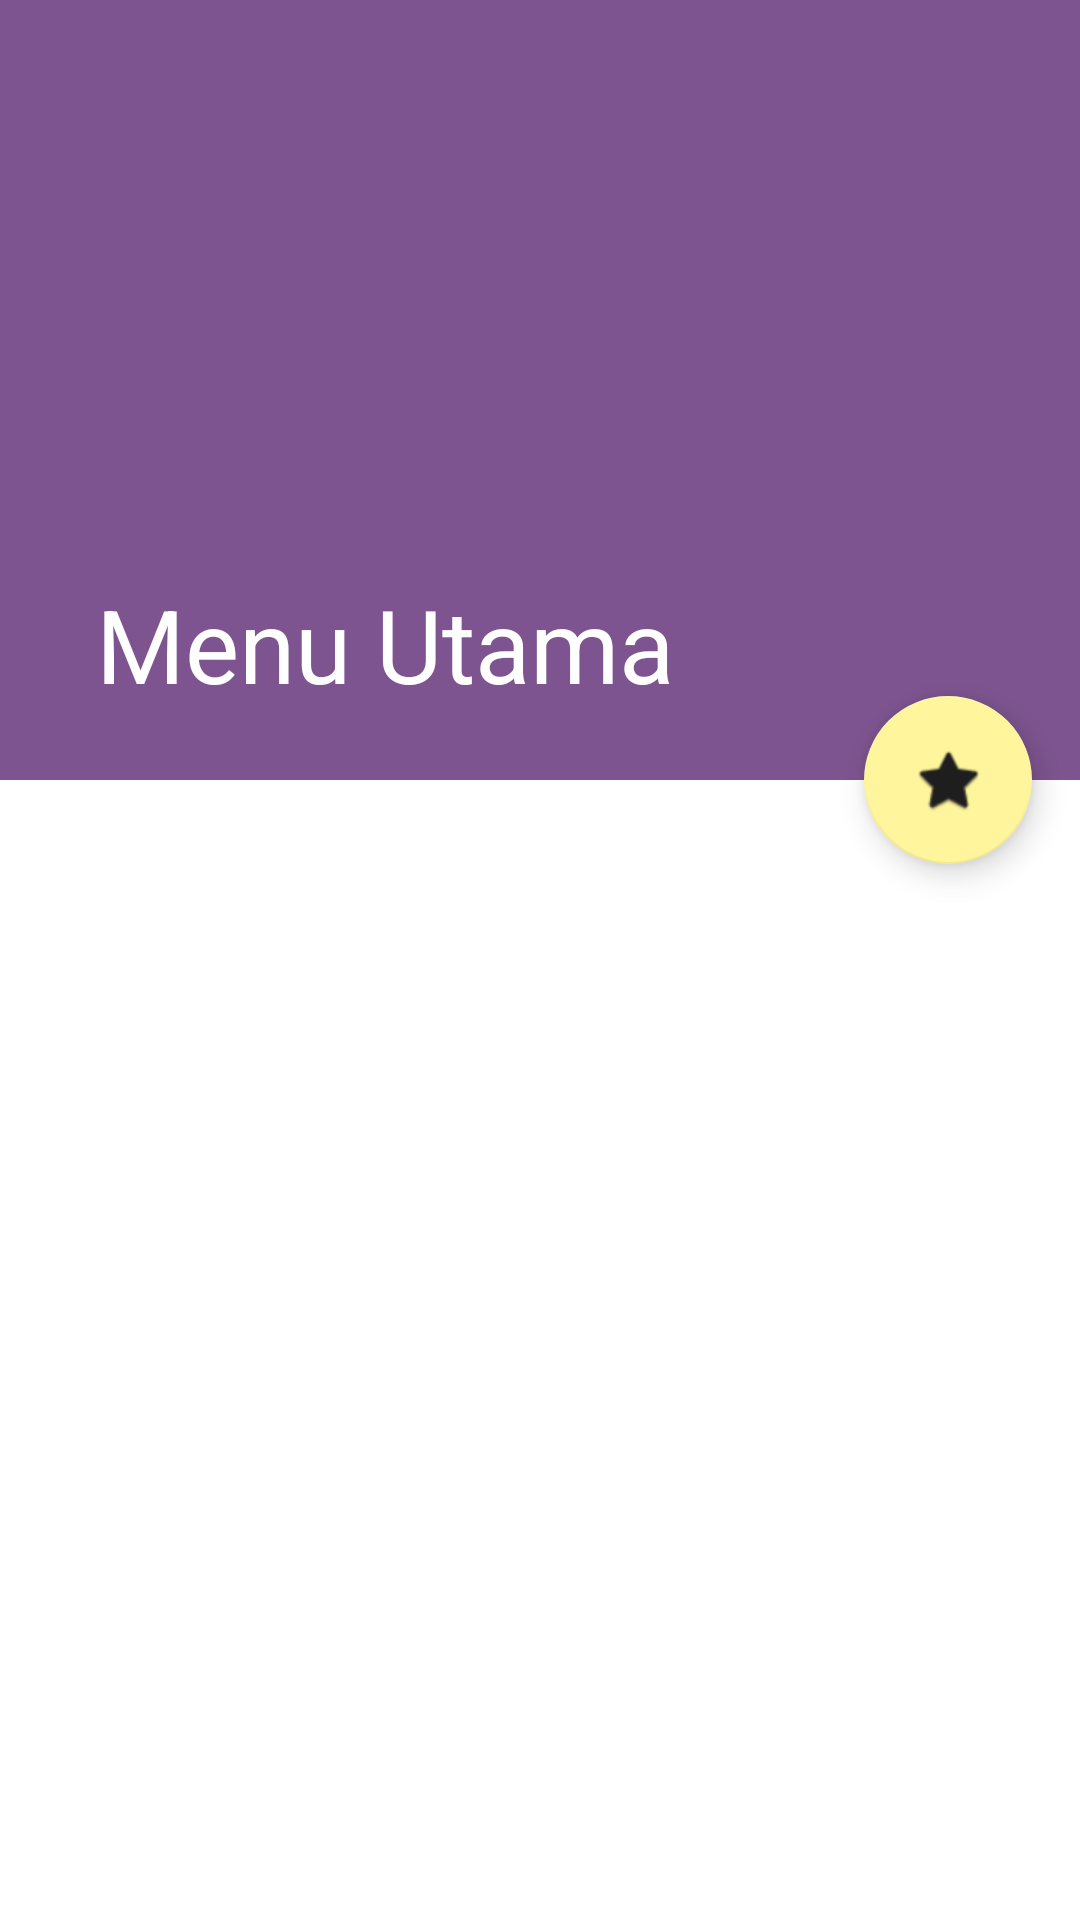

Icons on this 1080w x 1920h Android screen, each with the point to tap as [x,y]:
star on: [948,780]
